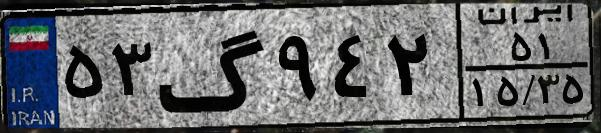1: (537, 27, 568, 80), (470, 70, 495, 125)
2: (385, 28, 445, 110)
3: (110, 28, 156, 98), (535, 70, 560, 125)
4: (330, 28, 385, 110)
5: (57, 26, 110, 100), (560, 70, 590, 125), (508, 27, 537, 80), (495, 70, 520, 125)
9: (270, 28, 330, 110)
گ: (156, 12, 270, 120)
